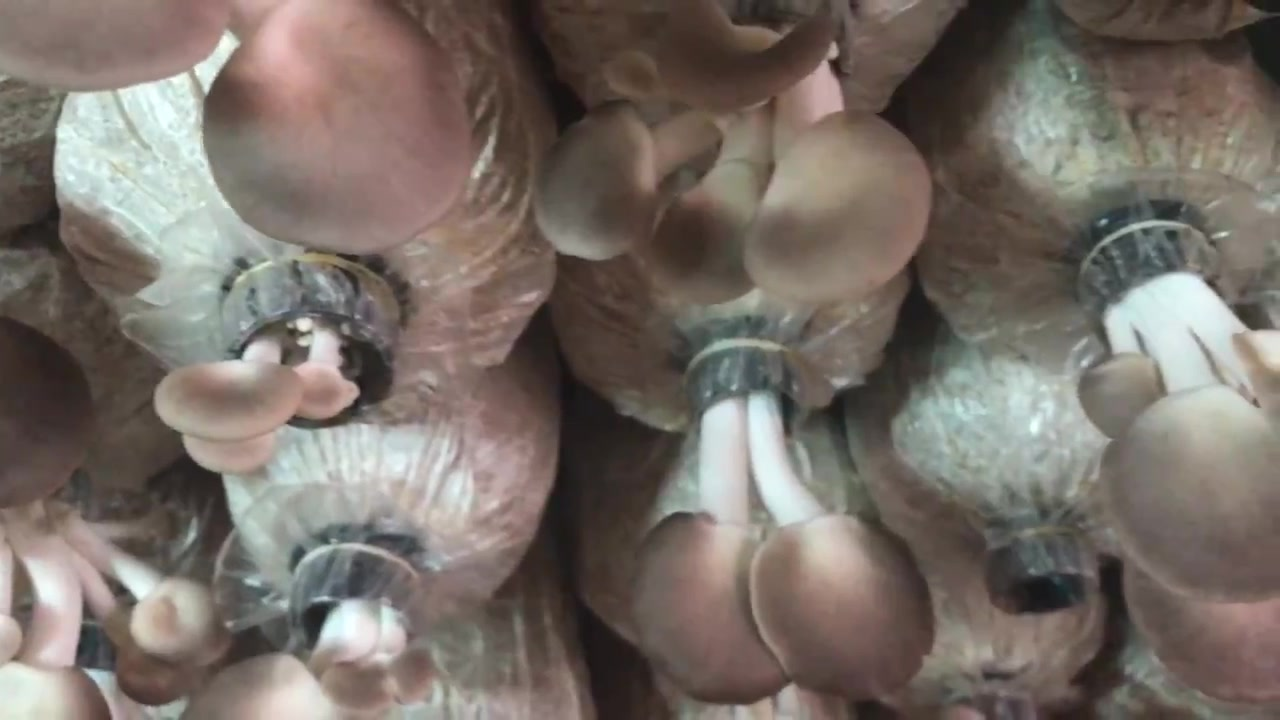nam: (536, 1, 930, 305), (1, 1, 470, 255), (641, 346, 930, 703), (1081, 225, 1280, 704), (157, 262, 410, 473), (186, 550, 439, 717), (1, 316, 93, 509)
